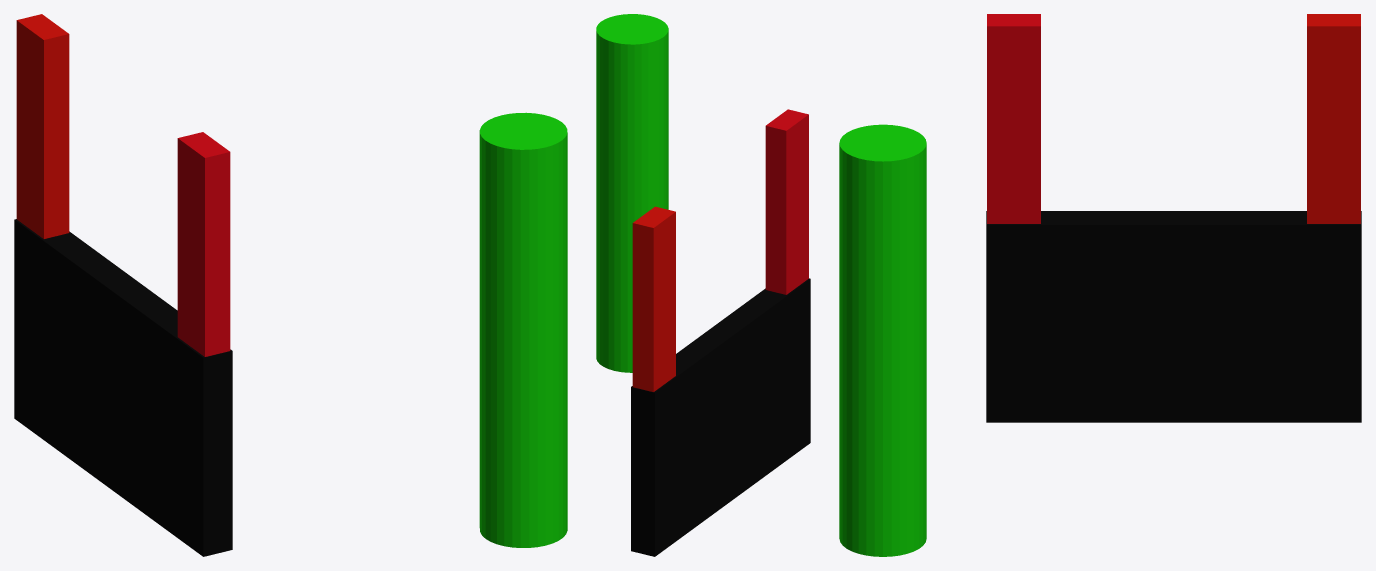
The model's file is simple_obstacle_2.dae.
3 renders of one model, left to right at view 1: azimuth 30°, elevation 25°; view 2: azimuth 150°, elevation 25°; view 3: azimuth 270°, elevation 25°, orthographic. The views are drawn at different scales.
Visible parts, largest first — view 1: Cube_001, Cylinder, Cube, Cube_002; view 2: Cube_001, Cylinder, Cube_002, Cube; view 3: Cube_001, Cylinder, Cube, Cube_002.
Part boxes in pixels (x1,y1,x2,y2): Cube_001: (14,219,232,556); Cylinder: (479,112,567,547); Cube: (177,132,230,356); Cube_002: (16,14,69,238); Cube_001: (631,278,810,556); Cylinder: (596,14,668,372); Cube_002: (632,206,675,391); Cube: (765,109,808,294); Cube_001: (986,211,1361,422); Cylinder: (839,124,926,556); Cube: (987,14,1040,223); Cube_002: (1307,14,1360,223).
Bounding box in the file's own units: 2.41 × 3.59 × 3.
